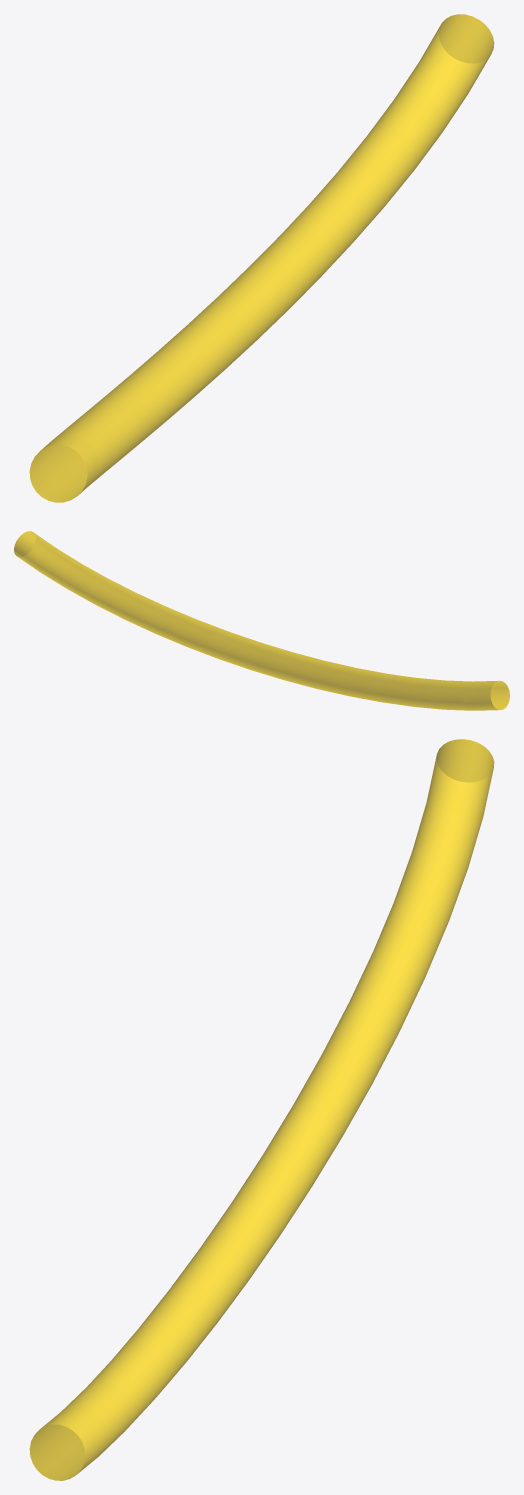
Rendered from Event_100608114_track_88.fbx.
The picture shows the model from 3 angles, top to bottom: view 1: azimuth 90°, elevation 25°; view 2: azimuth 150°, elevation 25°; view 3: azimuth 270°, elevation 25°; orthographic projection. The views are drawn at different scales.
Parts seen in each view (by area): view 1: Model; view 2: Model; view 3: Model.
Boxes of the visible parts, bbox=[...] form: Model: bbox=[29, 14, 494, 502]; Model: bbox=[14, 531, 509, 710]; Model: bbox=[29, 739, 494, 1480].
Bounding box in the file's own units: 0.923 × 0.1519 × 0.317.
